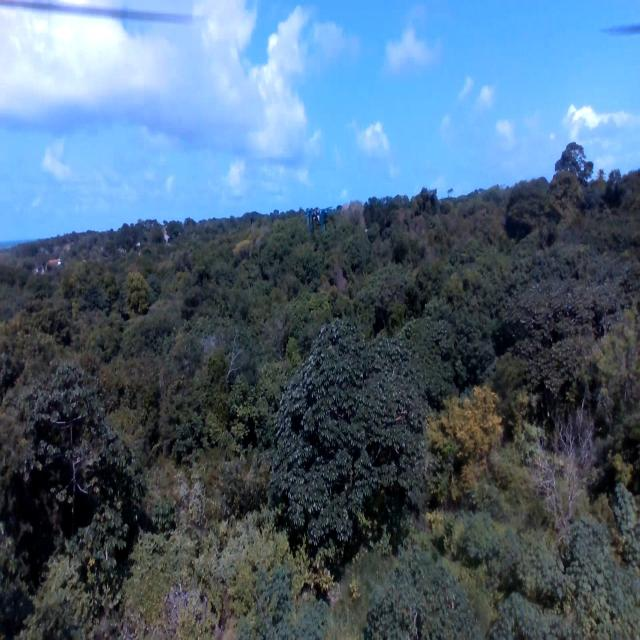-uav-: (301, 198, 331, 249)
